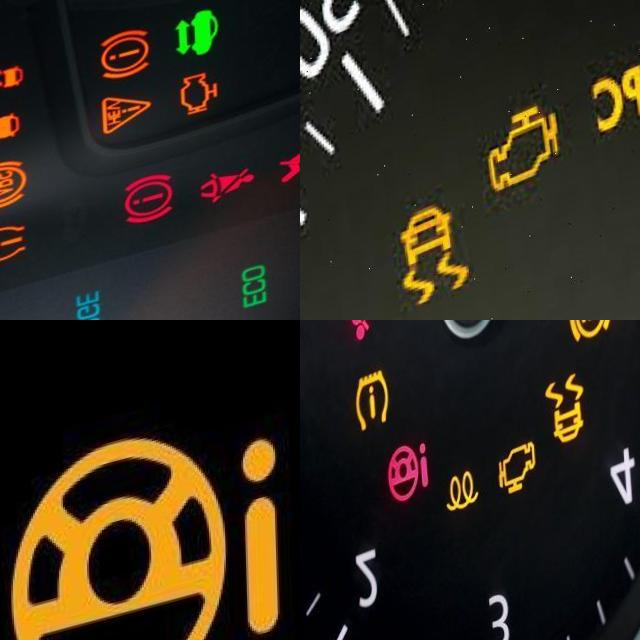Electronic Power Steering: (7, 419, 277, 640), (383, 452, 430, 518)
Seat Belt: (196, 182, 253, 224), (340, 320, 375, 355)
